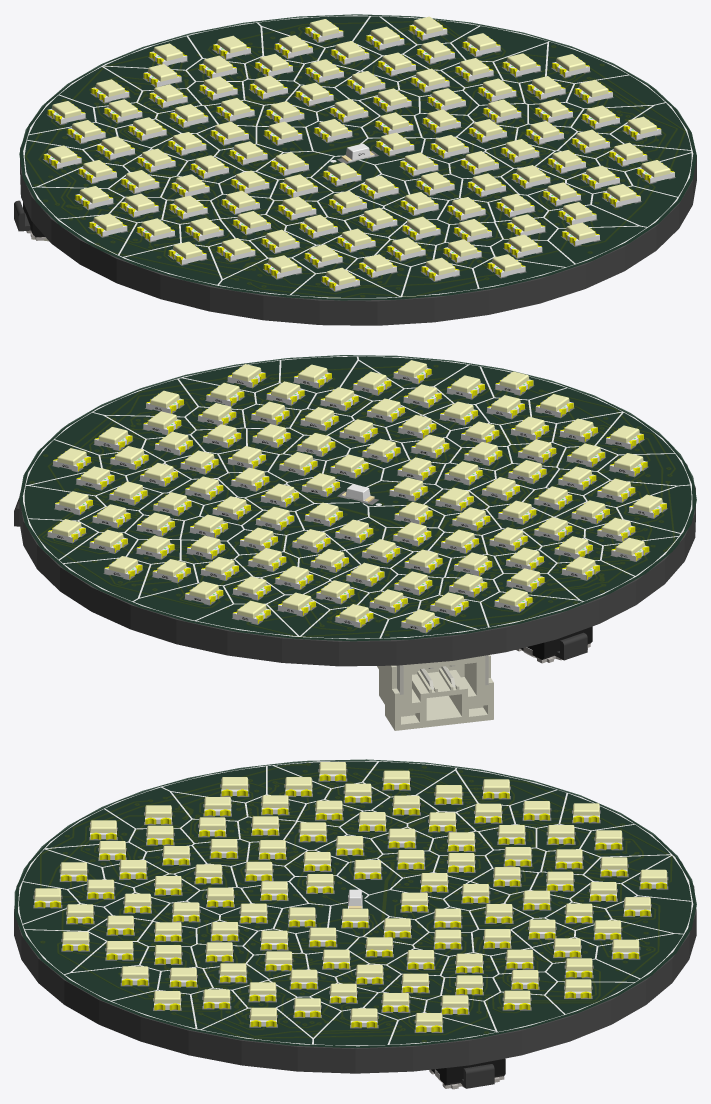
The model's file is board.glb.
3 renders of one model, top to bottom at view 1: azimuth 30°, elevation 25°; view 2: azimuth 150°, elevation 25°; view 3: azimuth 270°, elevation 25°, orthographic.
Visible parts, largest first — view 1: sunflower_soldermask, sunflower_PCB, LED-ARRAY-SMD_4P-L1.6-W1.5-BR_XL-1615RGBC-RF (×110), sunflower_silkscreen, sunflower_copper, sunflower_pad, SW-SMD_EVQP7C01P-L3.6-W3.5-H1.4-P3.6-LS4.7; view 2: sunflower_soldermask, sunflower_PCB, LED-ARRAY-SMD_4P-L1.6-W1.5-BR_XL-1615RGBC-RF (×110), sunflower_silkscreen, JST_GH_SM02B-GHS-TB_1x02-1MP_P1.25mm_Horizontal, sunflower_copper, sunflower_pad, SW-SMD_EVQP7C01P-L3.6-W3.5-H1.4-P3.6-LS4.7; view 3: sunflower_soldermask, sunflower_PCB, LED-ARRAY-SMD_4P-L1.6-W1.5-BR_XL-1615RGBC-RF (×110), sunflower_silkscreen, sunflower_copper, sunflower_pad, SW-SMD_EVQP7C01P-L3.6-W3.5-H1.4-P3.6-LS4.7.
Boxes of the visible parts, <box> form: sunflower_soldermask: <box>19,14,696,300</box>; sunflower_PCB: <box>20,17,696,325</box>; LED-ARRAY-SMD_4P-L1.6-W1.5-BR_XL-1615RGBC-RF (×110): <box>43,16,674,290</box>; sunflower_silkscreen: <box>23,15,693,298</box>; sunflower_copper: <box>25,21,685,297</box>; sunflower_pad: <box>42,30,675,291</box>; SW-SMD_EVQP7C01P-L3.6-W3.5-H1.4-P3.6-LS4.7: <box>14,200,46,240</box>; sunflower_soldermask: <box>19,355,696,641</box>; sunflower_PCB: <box>19,357,695,666</box>; LED-ARRAY-SMD_4P-L1.6-W1.5-BR_XL-1615RGBC-RF (×110): <box>47,360,666,632</box>; sunflower_silkscreen: <box>22,356,692,639</box>; JST_GH_SM02B-GHS-TB_1x02-1MP_P1.25mm_Horizontal: <box>377,655,493,730</box>; sunflower_copper: <box>30,365,675,636</box>; sunflower_pad: <box>47,374,667,633</box>; SW-SMD_EVQP7C01P-L3.6-W3.5-H1.4-P3.6-LS4.7: <box>516,626,592,663</box>; sunflower_soldermask: <box>14,759,696,1048</box>; sunflower_PCB: <box>14,762,696,1073</box>; LED-ARRAY-SMD_4P-L1.6-W1.5-BR_XL-1615RGBC-RF (×110): <box>34,762,667,1032</box>; sunflower_silkscreen: <box>18,760,693,1046</box>; sunflower_copper: <box>40,764,671,1041</box>; sunflower_pad: <box>33,769,668,1032</box>; SW-SMD_EVQP7C01P-L3.6-W3.5-H1.4-P3.6-LS4.7: <box>429,1058,505,1089</box>.
Size of the model in its own units: 0.038 by 0.00652 by 0.038.
